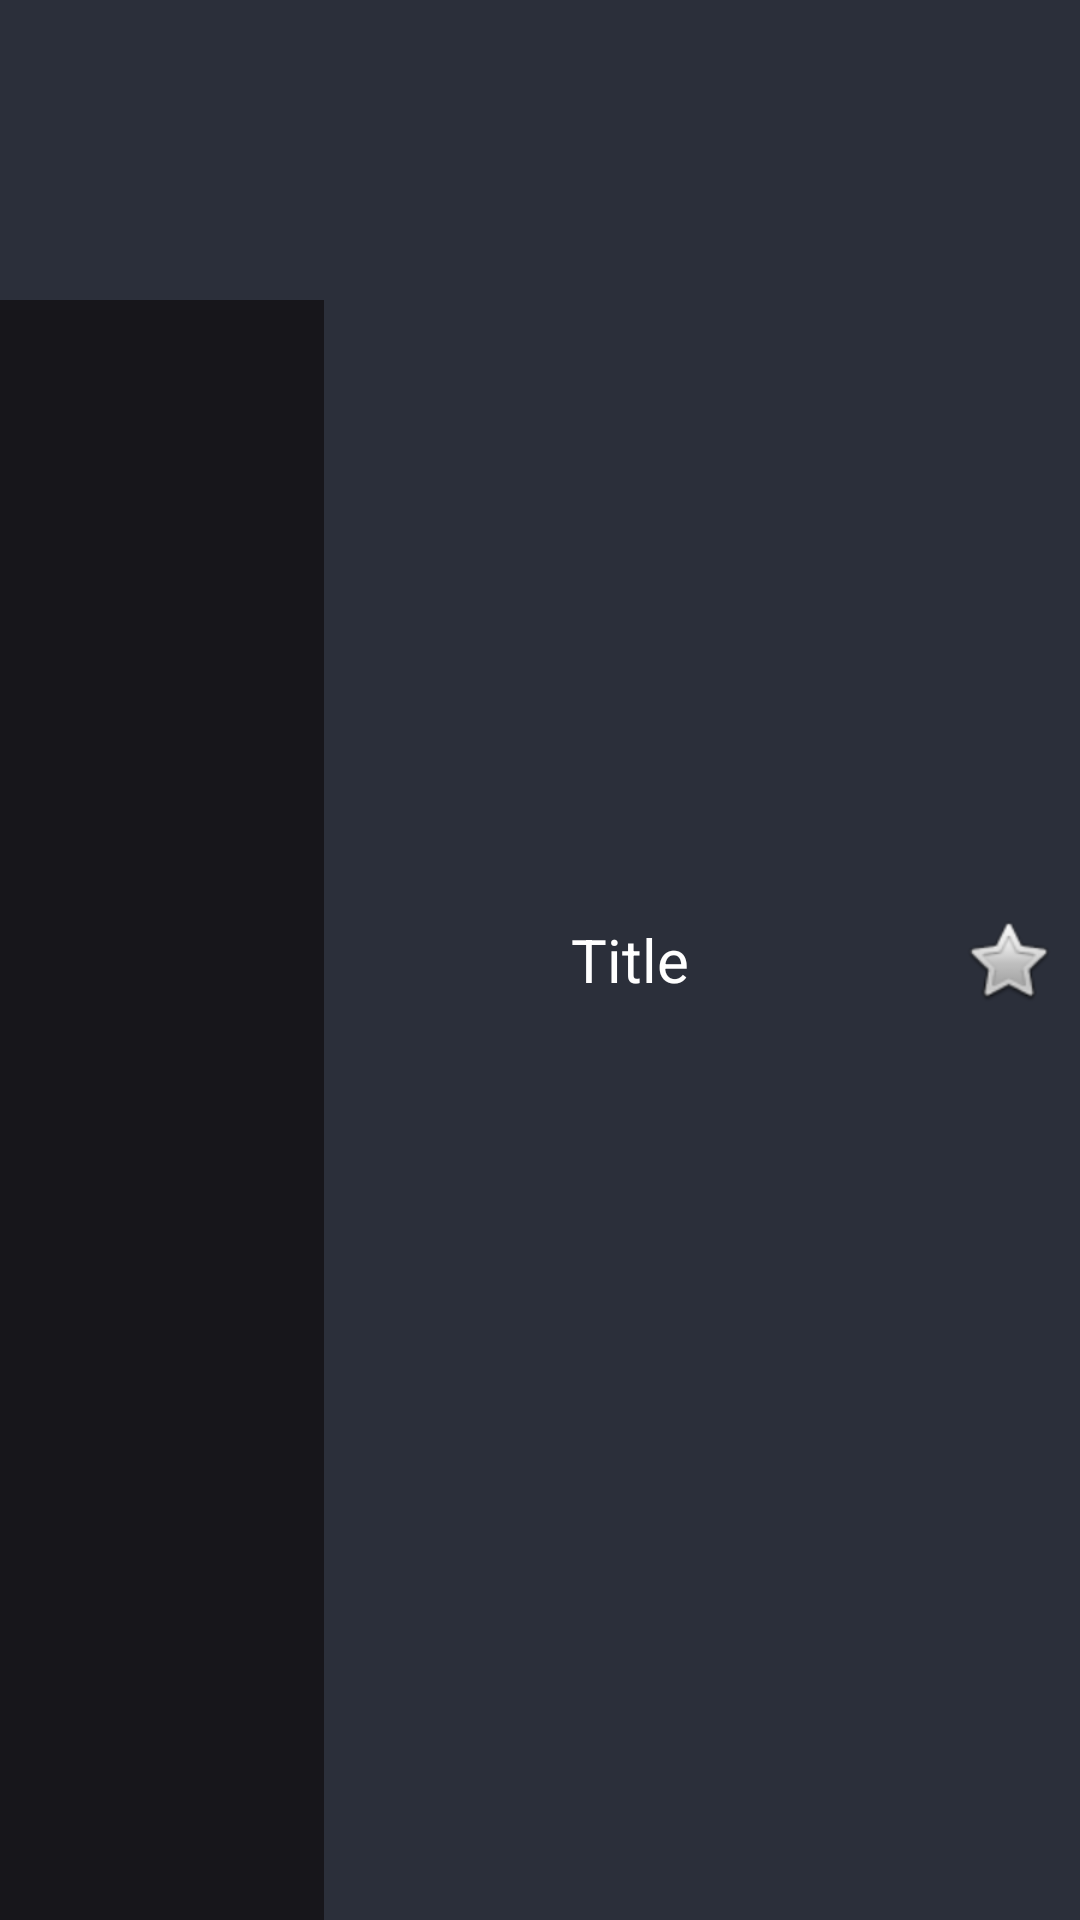

Where icons sit on this 1080px×1920px app screen, as [left=x1, top=y1, right=x2, bottom=y2]:
star: [left=971, top=923, right=1047, bottom=996]
